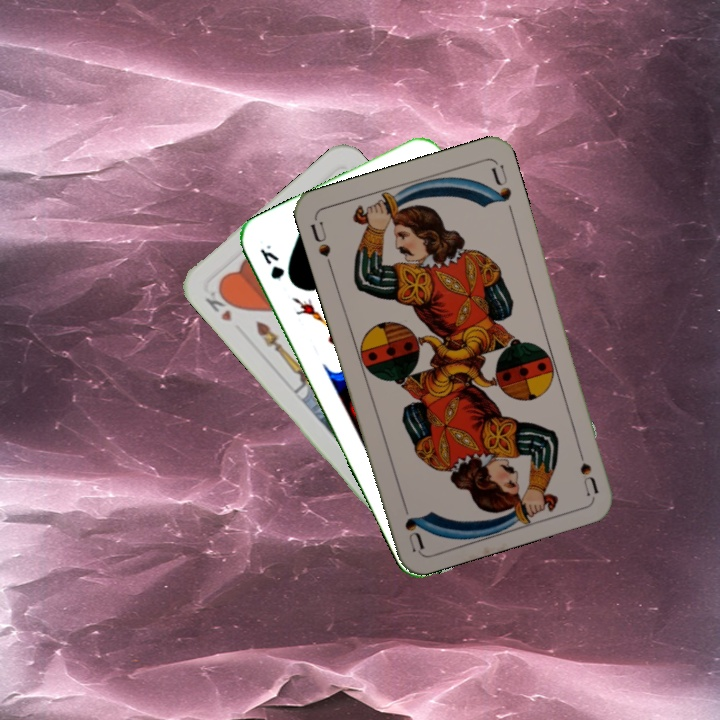GK: (256, 241, 288, 282)
HK: (201, 283, 239, 325)
SU: (572, 438, 602, 498), (306, 215, 336, 273)
